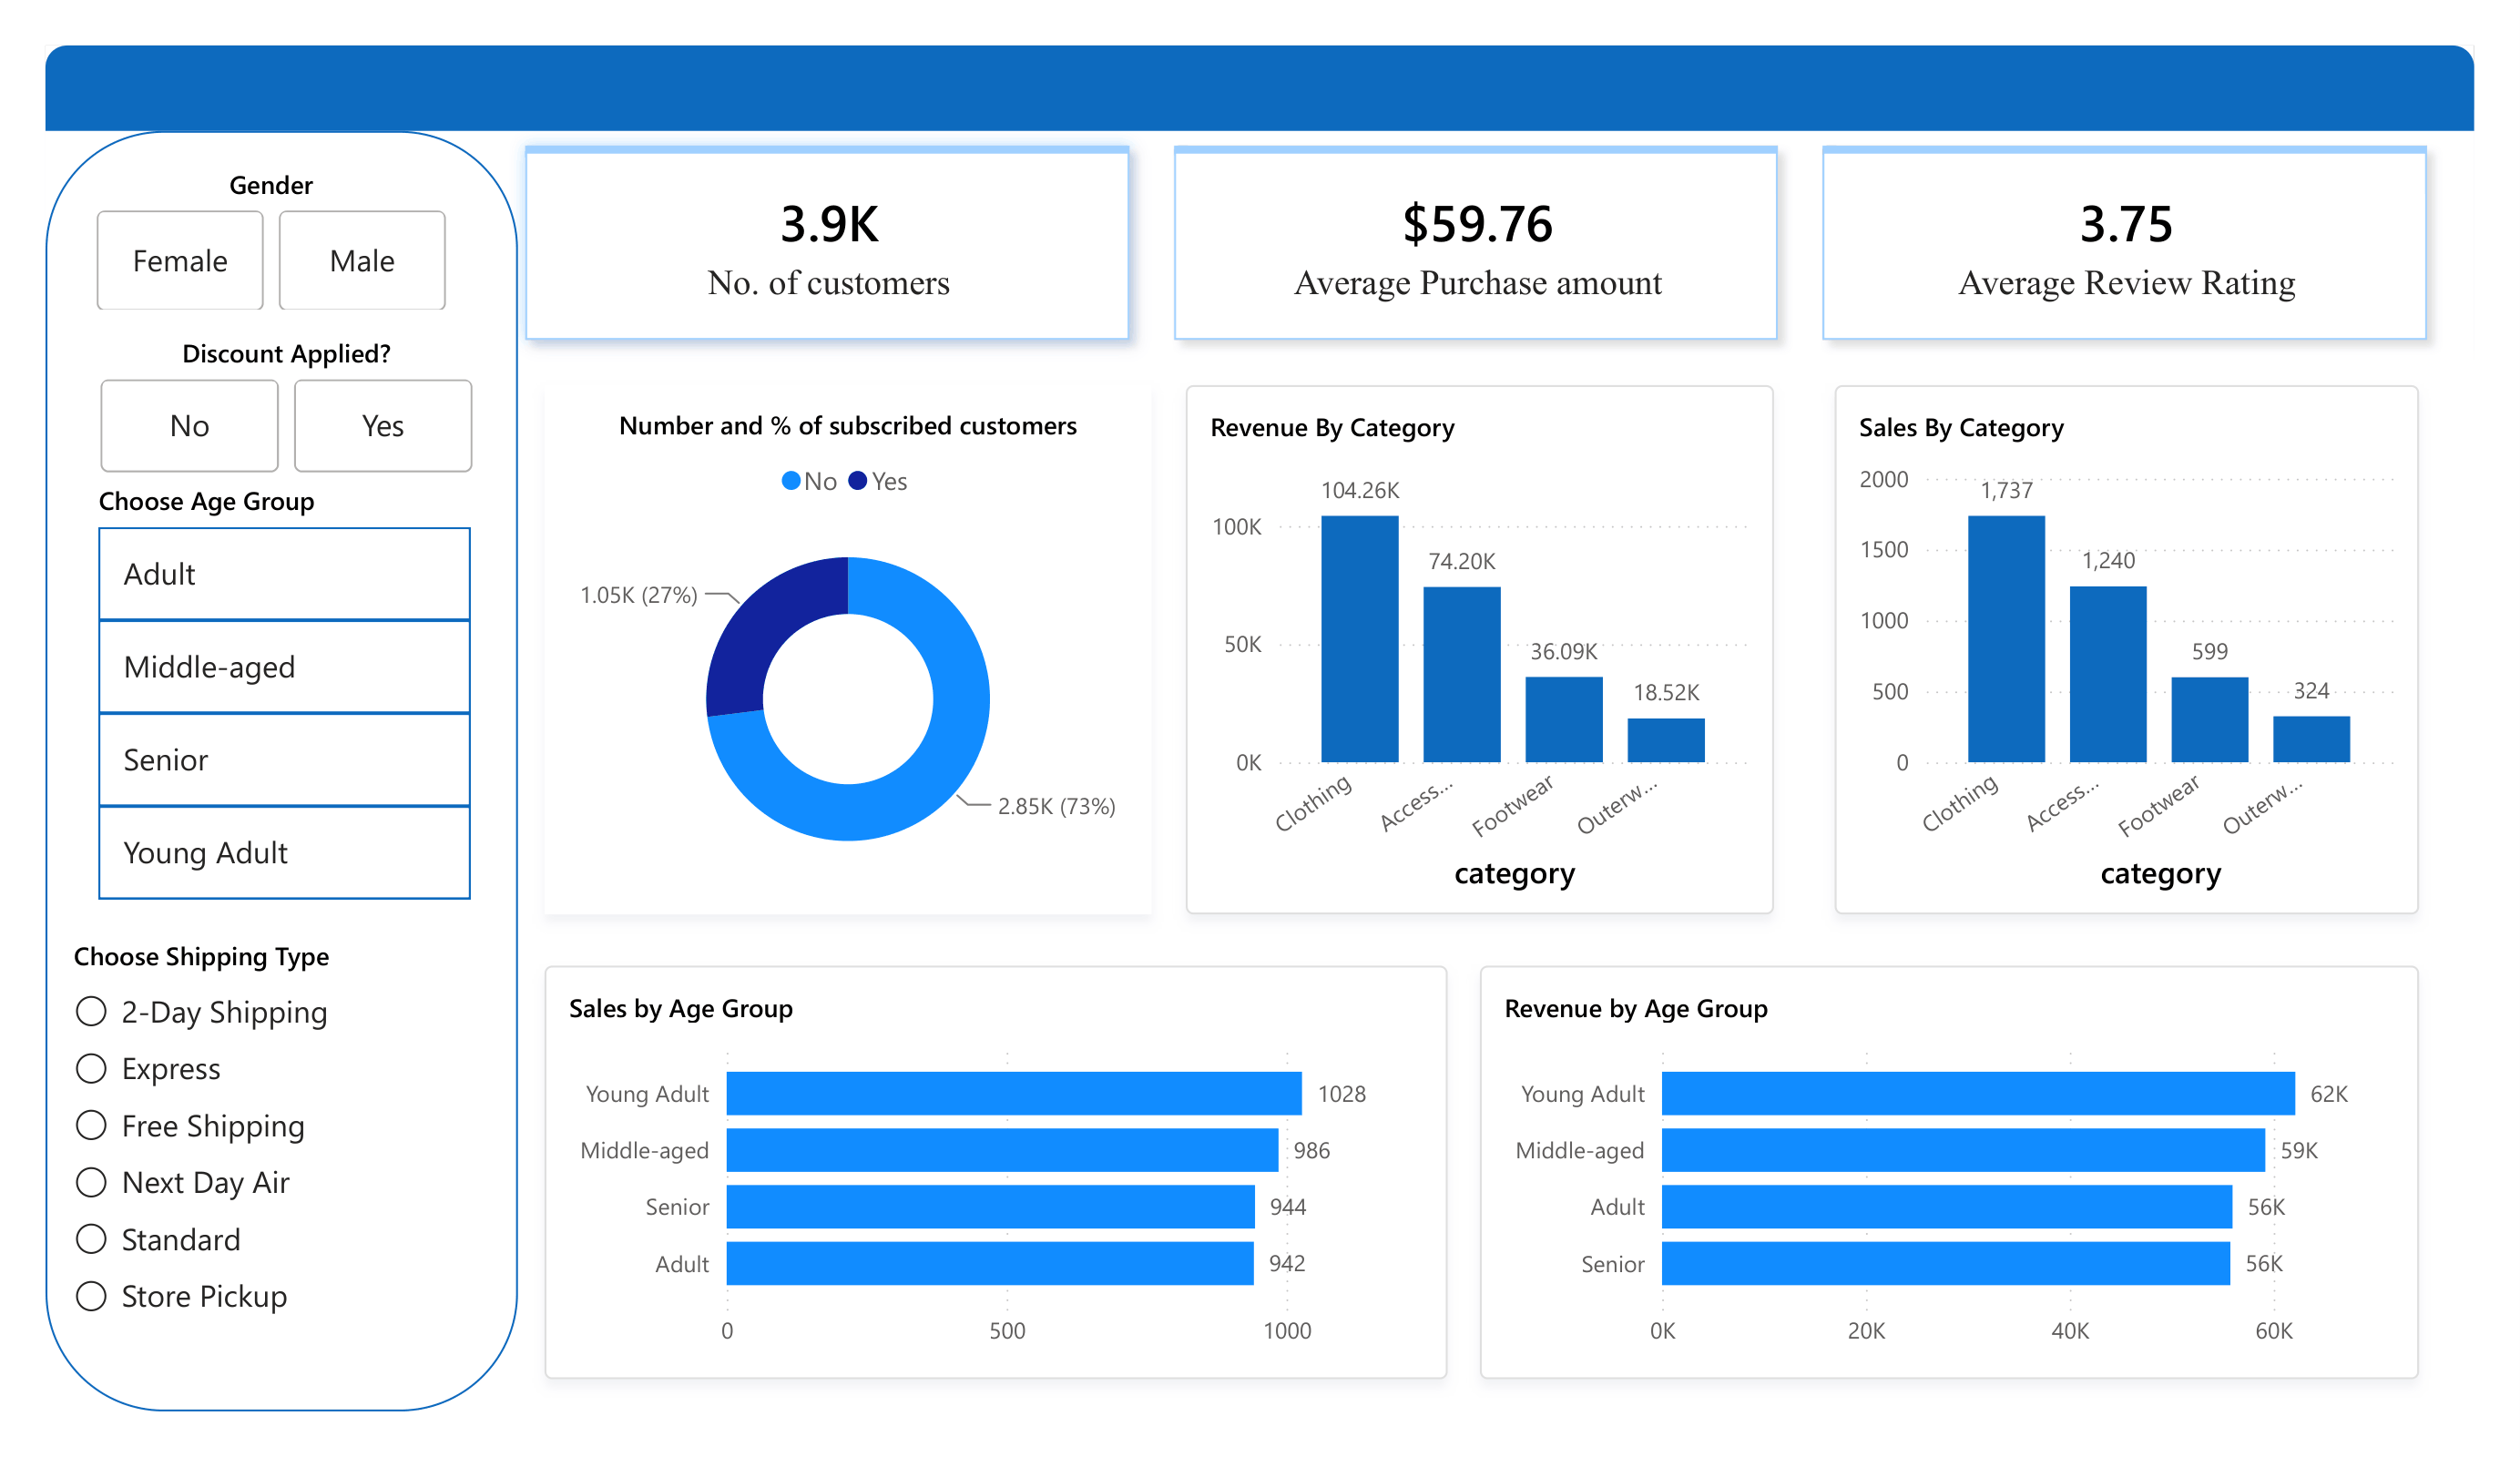

The dashboard page shown, as its layout file describes it:
{"tool":"powerbi","page":{"name":"Page 1","canvas":[1280,720],"ordinal":0},"visuals":[{"type":"cardVisual","fields":{"Data":["customer_behavior customer.No. of customers","customer_behavior customer.Measure","customer_behavior customer.Measure 2"]},"box":[228.8,23.8,1051.2,155],"z":0},{"type":"shape","box":[0,0,1280.3,45.2],"z":1000},{"type":"textbox","box":[0,0,1280.3,66],"z":2000},{"type":"donutChart","title":"Number and % of subscribed customers","fields":{"Y":["customer_behavior customer.No. of customers"],"Category":["customer_behavior customer.subscription_status"]},"box":[262.5,178.8,320,278.8],"z":3000},{"type":"clusteredColumnChart","title":"Revenue By Category","fields":{"Category":["customer_behavior customer.category"],"Y":["Sum(customer_behavior customer.purchase_amount)"]},"box":[601.2,178.8,310,278.8],"z":4000},{"type":"clusteredColumnChart","title":"Sales By Category","fields":{"Category":["customer_behavior customer.category"],"Y":["customer_behavior customer.No. of customers"]},"box":[942.5,178.8,308.8,278.8],"z":5000},{"type":"shape","box":[0,45,248.8,675],"z":6000},{"type":"advancedSlicerVisual","title":"Gender","fields":{"Values":["customer_behavior customer.gender"]},"box":[22.5,58.8,206.2,85],"z":7000},{"type":"advancedSlicerVisual","title":"Discount Applied?","fields":{"Values":["customer_behavior customer.discount_applied"]},"box":[23.8,152.5,206.2,77.5],"z":8000},{"type":"advancedSlicerVisual","title":"Choose Age Group","fields":{"Values":["customer_behavior customer.age_group"]},"box":[22.5,231.2,206.2,226.2],"z":9000},{"type":"listSlicer","title":"Choose Shipping Type","fields":{"Values":["customer_behavior customer.shipping_type"]},"box":[10,471.2,220,210],"z":10000},{"type":"clusteredBarChart","title":"Sales by Age Group","fields":{"Category":["customer_behavior customer.age_group"],"Y":["customer_behavior customer.No. of customers"]},"box":[262.5,485,476.2,217.5],"z":11000},{"type":"clusteredBarChart","title":"Revenue by Age Group","fields":{"Category":["customer_behavior customer.age_group"],"Y":["Sum(customer_behavior customer.purchase_amount)"]},"box":[756.2,485,495,217.5],"z":12000}]}

Visuals, with their boxes on the page's 1280x720 design canvas (x1, y1, x2, y2). These are canvas units, not pixel positions in the 2520x1457 screenshot, which may show the page scaled, cropped or inside an application window:
cardVisual - customer_behavior customer.No. of customers x customer_behavior customer.Measure: <bbox>229, 24, 1280, 179</bbox>
shape: <bbox>0, 0, 1280, 45</bbox>
textbox: <bbox>0, 0, 1280, 66</bbox>
"Number and % of subscribed customers" donutChart: <bbox>262, 179, 582, 458</bbox>
"Revenue By Category" clusteredColumnChart: <bbox>601, 179, 911, 458</bbox>
"Sales By Category" clusteredColumnChart: <bbox>942, 179, 1251, 458</bbox>
shape: <bbox>0, 45, 249, 720</bbox>
"Gender" advancedSlicerVisual: <bbox>22, 59, 229, 144</bbox>
"Discount Applied?" advancedSlicerVisual: <bbox>24, 152, 230, 230</bbox>
"Choose Age Group" advancedSlicerVisual: <bbox>22, 231, 229, 457</bbox>
"Choose Shipping Type" listSlicer: <bbox>10, 471, 230, 681</bbox>
"Sales by Age Group" clusteredBarChart: <bbox>262, 485, 739, 702</bbox>
"Revenue by Age Group" clusteredBarChart: <bbox>756, 485, 1251, 702</bbox>
